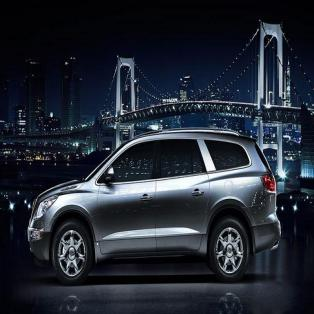Auto: (27, 126, 283, 284)
